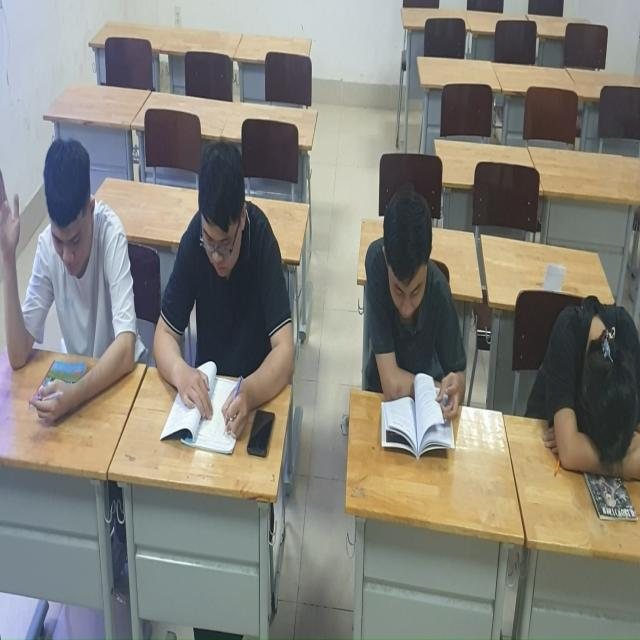raise_hand: (1, 120, 142, 434)
read: (151, 140, 297, 467), (359, 182, 472, 470)
sleep: (528, 270, 640, 499)
